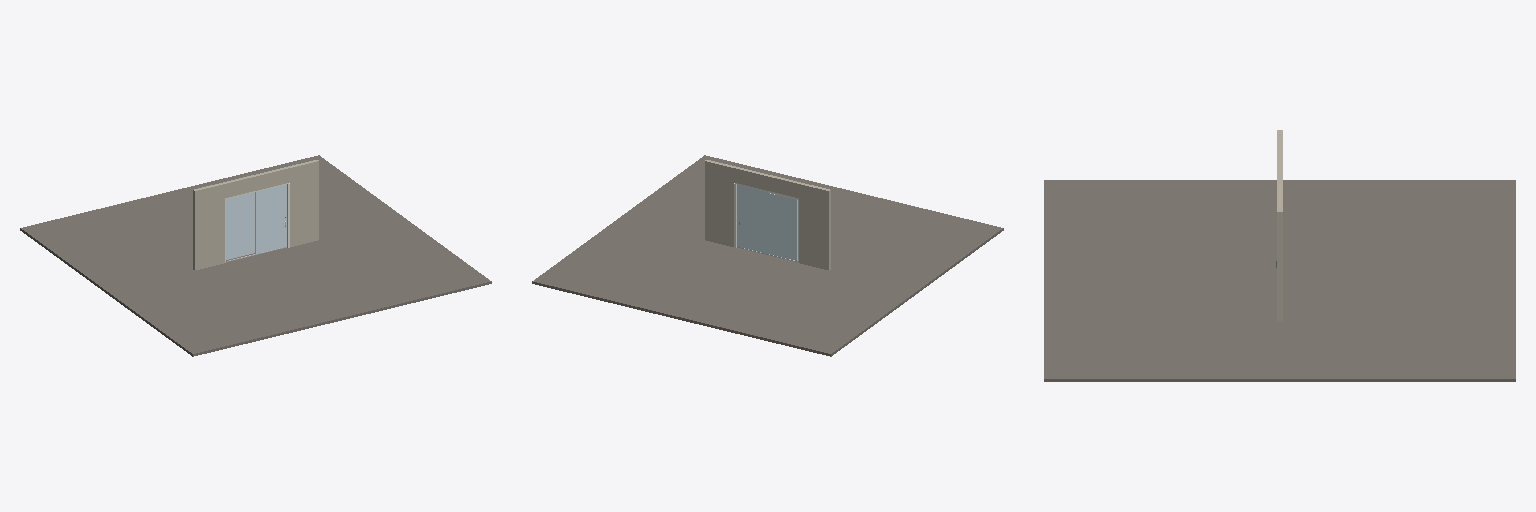
The robot description file, URDF, robot "db0023_sliding_single_minimal":
<?xml version="1.0" ?>
<robot xmlns:doorbench="https://github.com/adamraudonis/DoorBench/schema/urdf-ext" name="db0023_sliding_single_minimal">
  <link name="world_env">
    <visual name="floor_vis">
      <origin xyz="0 0 -0.05" rpy="0 0 0"/>
      <geometry>
        <box size="12 12 0.1"/>
      </geometry>
      <material name="mat_floor"/>
    </visual>
    <collision name="floor_col">
      <origin xyz="0 0 -0.05" rpy="0 0 0"/>
      <geometry>
        <box size="12 12 0.1"/>
      </geometry>
    </collision>
    <visual name="wall_left_vis">
      <origin xyz="-1.887 0 1.5225" rpy="0 0 0"/>
      <geometry>
        <box size="1.226 0.145 3.045"/>
      </geometry>
      <material name="mat_wall"/>
    </visual>
    <collision name="wall_left_col">
      <origin xyz="-1.887 0 1.5225" rpy="0 0 0"/>
      <geometry>
        <box size="1.226 0.145 3.045"/>
      </geometry>
    </collision>
    <visual name="wall_right_vis">
      <origin xyz="1.917 0 1.5225" rpy="0 0 0"/>
      <geometry>
        <box size="1.166 0.145 3.045"/>
      </geometry>
      <material name="mat_wall"/>
    </visual>
    <collision name="wall_right_col">
      <origin xyz="1.917 0 1.5225" rpy="0 0 0"/>
      <geometry>
        <box size="1.166 0.145 3.045"/>
      </geometry>
    </collision>
    <visual name="wall_header_vis">
      <origin xyz="0.03 0 2.7675" rpy="0 0 0"/>
      <geometry>
        <box size="2.608 0.145 0.555"/>
      </geometry>
      <material name="mat_wall"/>
    </visual>
    <collision name="wall_header_col">
      <origin xyz="0.03 0 2.7675" rpy="0 0 0"/>
      <geometry>
        <box size="2.608 0.145 0.555"/>
      </geometry>
    </collision>
    <visual name="jamb_l_vis">
      <origin xyz="-1.2515 0 1.2225" rpy="0 0 0"/>
      <geometry>
        <box size="0.045 0.145 2.445"/>
      </geometry>
      <material name="mat_frame"/>
    </visual>
    <collision name="jamb_l_col">
      <origin xyz="-1.2515 0 1.2225" rpy="0 0 0"/>
      <geometry>
        <box size="0.045 0.145 2.445"/>
      </geometry>
    </collision>
    <visual name="jamb_head_vis">
      <origin xyz="0 0 2.4675" rpy="0 0 0"/>
      <geometry>
        <box size="2.548 0.145 0.045"/>
      </geometry>
      <material name="mat_frame"/>
    </visual>
    <collision name="jamb_head_col">
      <origin xyz="0 0 2.4675" rpy="0 0 0"/>
      <geometry>
        <box size="2.548 0.145 0.045"/>
      </geometry>
    </collision>
    <visual name="fixed_panel_glass_vis">
      <origin xyz="-0.6145 0.04 1.2225" rpy="0 0 0"/>
      <geometry>
        <box size="1.189 0.006 2.345"/>
      </geometry>
      <material name="mat_fixed_glass"/>
    </visual>
    <collision name="fixed_panel_glass_col">
      <origin xyz="-0.6145 0.04 1.2225" rpy="0 0 0"/>
      <geometry>
        <box size="1.189 0.006 2.345"/>
      </geometry>
    </collision>
    <visual name="bottom_rail_vis">
      <origin xyz="0.054 0 0.012" rpy="0 0 0"/>
      <geometry>
        <box size="2.44 0.04 0.024"/>
      </geometry>
      <material name="mat_track"/>
    </visual>
    <collision name="bottom_rail_col">
      <origin xyz="0.054 0 0.012" rpy="0 0 0"/>
      <geometry>
        <box size="2.44 0.04 0.024"/>
      </geometry>
    </collision>
    <visual name="leaf_hook_keeper_vis">
      <origin xyz="1.242 0 1.03" rpy="0 0 0"/>
      <geometry>
        <box size="0.016 0.03 0.012"/>
      </geometry>
      <material name="mat_hook"/>
    </visual>
    <collision name="leaf_hook_keeper_col">
      <origin xyz="1.242 0 1.03" rpy="0 0 0"/>
      <geometry>
        <box size="0.016 0.03 0.012"/>
      </geometry>
    </collision>
    <visual name="jamb_latch_pwall_1030_n_vis">
      <origin xyz="1.2815 -0.0505 1.03" rpy="0 0 0"/>
      <geometry>
        <box size="0.105 0.044 0.12"/>
      </geometry>
      <material name="mat_frame"/>
    </visual>
    <collision name="jamb_latch_pwall_1030_n_col">
      <origin xyz="1.2815 -0.0505 1.03" rpy="0 0 0"/>
      <geometry>
        <box size="0.105 0.044 0.12"/>
      </geometry>
    </collision>
    <visual name="jamb_latch_pwall_1030_p_vis">
      <origin xyz="1.2815 0.0505 1.03" rpy="0 0 0"/>
      <geometry>
        <box size="0.105 0.044 0.12"/>
      </geometry>
      <material name="mat_frame"/>
    </visual>
    <collision name="jamb_latch_pwall_1030_p_col">
      <origin xyz="1.2815 0.0505 1.03" rpy="0 0 0"/>
      <geometry>
        <box size="0.105 0.044 0.12"/>
      </geometry>
    </collision>
    <visual name="jamb_latch_pback_1030_vis">
      <origin xyz="1.33 0 1.03" rpy="0 0 0"/>
      <geometry>
        <box size="0.008 0.057 0.12"/>
      </geometry>
      <material name="mat_frame"/>
    </visual>
    <collision name="jamb_latch_pback_1030_col">
      <origin xyz="1.33 0 1.03" rpy="0 0 0"/>
      <geometry>
        <box size="0.008 0.057 0.12"/>
      </geometry>
    </collision>
    <visual name="jamb_latch_0_vis">
      <origin xyz="1.2815 0 0.485" rpy="0 0 0"/>
      <geometry>
        <box size="0.105 0.145 0.97"/>
      </geometry>
      <material name="mat_frame"/>
    </visual>
    <collision name="jamb_latch_0_col">
      <origin xyz="1.2815 0 0.485" rpy="0 0 0"/>
      <geometry>
        <box size="0.105 0.145 0.97"/>
      </geometry>
    </collision>
    <visual name="jamb_latch_1_vis">
      <origin xyz="1.2815 0 1.7675" rpy="0 0 0"/>
      <geometry>
        <box size="0.105 0.145 1.355"/>
      </geometry>
      <material name="mat_frame"/>
    </visual>
    <collision name="jamb_latch_1_col">
      <origin xyz="1.2815 0 1.7675" rpy="0 0 0"/>
      <geometry>
        <box size="0.105 0.145 1.355"/>
      </geometry>
    </collision>
  </link>
  <link name="leaf">
    <inertial>
      <origin xyz="0.002073 -0.000286 1.228883" rpy="0 0 0"/>
      <mass value="205.083553"/>
      <inertia ixx="98.152762041" ixy="0.030374556" ixz="0.118559382" iyy="123.627863653" iyz="-0.016371272" izz="25.553245675"/>
    </inertial>
    <visual name="leaf_glass_vis">
      <origin xyz="0 0 1.23" rpy="0 0 0"/>
      <geometry>
        <box size="1.219 0.045 2.4"/>
      </geometry>
      <material name="mat_glass_leaf"/>
    </visual>
    <collision name="leaf_glass_col">
      <origin xyz="0 0 1.23" rpy="0 0 0"/>
      <geometry>
        <box size="1.219 0.045 2.4"/>
      </geometry>
    </collision>
    <visual name="leaf_pull_n_vis">
      <origin xyz="0.5195 -0.0225 0.95" rpy="1.570796 0 0"/>
      <geometry>
        <mesh filename="../../hardware/pull_1e5d69a91a.obj"/>
      </geometry>
      <material name="mat_op_stainless"/>
    </visual>
    <collision name="leaf_pull_col_n_col">
      <origin xyz="0.5195 -0.0825 0.95" rpy="0 0 0"/>
      <geometry>
        <cylinder radius="0.0095" length="0.16"/>
      </geometry>
    </collision>
    <visual name="leaf_ext_pull_p_vis">
      <origin xyz="0.5195 0.023 0.95" rpy="0 0 0"/>
      <geometry>
        <box size="0.05 0.001 0.1"/>
      </geometry>
      <material name="mat_op_nickel_satin"/>
    </visual>
  </link>
  <link name="leaf_hook_thumbturn">
    <inertial>
      <origin xyz="0 -0.012928 0" rpy="0 0 0"/>
      <mass value="0.178946"/>
      <inertia ixx="0.000032438" ixy="0" ixz="0" iyy="0.000026045" iyz="0" izz="0.000026215"/>
    </inertial>
    <visual name="leaf_hook_tt_mesh_vis">
      <origin xyz="0 0 0" rpy="1.570796 0 0"/>
      <geometry>
        <mesh filename="../../hardware/thumbturn_eb5c9899a3.obj"/>
      </geometry>
      <material name="mat_hook"/>
    </visual>
    <collision name="leaf_hook_tt_mesh_col">
      <origin xyz="0 0 0" rpy="1.570796 0 0"/>
      <geometry>
        <mesh filename="../../hardware/thumbturn_eb5c9899a3.obj"/>
      </geometry>
    </collision>
    <collision name="leaf_hook_tt_col_col">
      <origin xyz="0 -0.02 0" rpy="0 0 0"/>
      <geometry>
        <box size="0.012 0.024 0.032"/>
      </geometry>
    </collision>
  </link>
  <link name="leaf_hook">
    <inertial>
      <origin xyz="0.026737 0 -0.009263" rpy="0 0 0"/>
      <mass value="0.072048"/>
      <inertia ixx="0.000008186" ixy="0" ixz="-0.000004496" iyy="0.000019175" iyz="0" izz="0.00001219"/>
    </inertial>
    <visual name="leaf_hook_arm_vis">
      <origin xyz="0.02 0 -0.016" rpy="0 0 0"/>
      <geometry>
        <box size="0.044 0.01 0.012"/>
      </geometry>
      <material name="mat_hook"/>
    </visual>
    <collision name="leaf_hook_arm_col">
      <origin xyz="0.02 0 -0.016" rpy="0 0 0"/>
      <geometry>
        <box size="0.044 0.01 0.012"/>
      </geometry>
    </collision>
    <visual name="leaf_hook_tip_vis">
      <origin xyz="0.036 0 0" rpy="0 0 0"/>
      <geometry>
        <box size="0.012 0.01 0.032"/>
      </geometry>
      <material name="mat_hook"/>
    </visual>
    <collision name="leaf_hook_tip_col">
      <origin xyz="0.036 0 0" rpy="0 0 0"/>
      <geometry>
        <box size="0.012 0.01 0.032"/>
      </geometry>
    </collision>
  </link>
  <joint name="leaf_slide" type="prismatic">
    <origin xyz="0.6145 0 0" rpy="0 0 0"/>
    <parent link="world_env"/>
    <child link="leaf"/>
    <axis xyz="-1 0 0"/>
    <limit lower="0" upper="1.121" effort="5000" velocity="10"/>
    <dynamics damping="12.266727" friction="157.064235"/>
  </joint>
  <joint name="leaf_hook_thumbturn_hinge" type="revolute">
    <origin xyz="0.5495 -0.0225 1.17" rpy="0 0 0"/>
    <parent link="leaf"/>
    <child link="leaf_hook_thumbturn"/>
    <axis xyz="0 1 0"/>
    <limit lower="0" upper="1" effort="2000" velocity="10"/>
    <dynamics damping="0.05" friction="0.25"/>
  </joint>
  <joint name="leaf_hook_hinge" type="revolute">
    <origin xyz="0.6095 0 1.03" rpy="0 0 0"/>
    <parent link="leaf"/>
    <child link="leaf_hook"/>
    <axis xyz="0 1 0"/>
    <limit lower="0" upper="1" effort="2000" velocity="10"/>
    <dynamics damping="0.05" friction="0.1"/>
    <mimic joint="leaf_hook_thumbturn_hinge" multiplier="1" offset="0"/>
  </joint>
  <material name="mat_fixed_glass">
    <color rgba="0.85 0.92 0.95 0.25"/>
  </material>
  <material name="mat_floor">
    <color rgba="0.55 0.53 0.5 1"/>
  </material>
  <material name="mat_frame">
    <color rgba="0.92 0.92 0.9 1"/>
  </material>
  <material name="mat_glass_leaf">
    <color rgba="0.85 0.92 0.95 0.25"/>
  </material>
  <material name="mat_hook">
    <color rgba="0.75 0.76 0.77 1"/>
  </material>
  <material name="mat_op_nickel_satin">
    <color rgba="0.72 0.7 0.66 1"/>
  </material>
  <material name="mat_op_stainless">
    <color rgba="0.75 0.76 0.77 1"/>
  </material>
  <material name="mat_track">
    <color rgba="0.8 0.81 0.83 1"/>
  </material>
  <material name="mat_wall">
    <color rgba="0.78 0.76 0.7 1"/>
  </material>
</robot>

--- Render facts (derived) ---
3 views of the same robot in one strip: view 1: azimuth 30°, elevation 25°; view 2: azimuth 150°, elevation 25°; view 3: azimuth 270°, elevation 25° (orthographic).
Model db0023_sliding_single_minimal with 4 links and 3 joints (2 revolute, 1 prismatic), rooted at world_env, posed all joints at 0.
Links seen in each view (by area): view 1: world_env, leaf; view 2: world_env, leaf; view 3: world_env.
Boxes of the visible links, x1,y1,x2,y2 form: world_env: (20,155,491,356); leaf: (256,185,286,253); world_env: (532,155,1003,356); leaf: (737,185,767,253); world_env: (1044,130,1515,381).
Size in the robot's own frame: 12 by 12 by 3.15 metres.
Meshes: 2 distinct files referenced, 2 mesh visuals loaded (2 OBJ).
